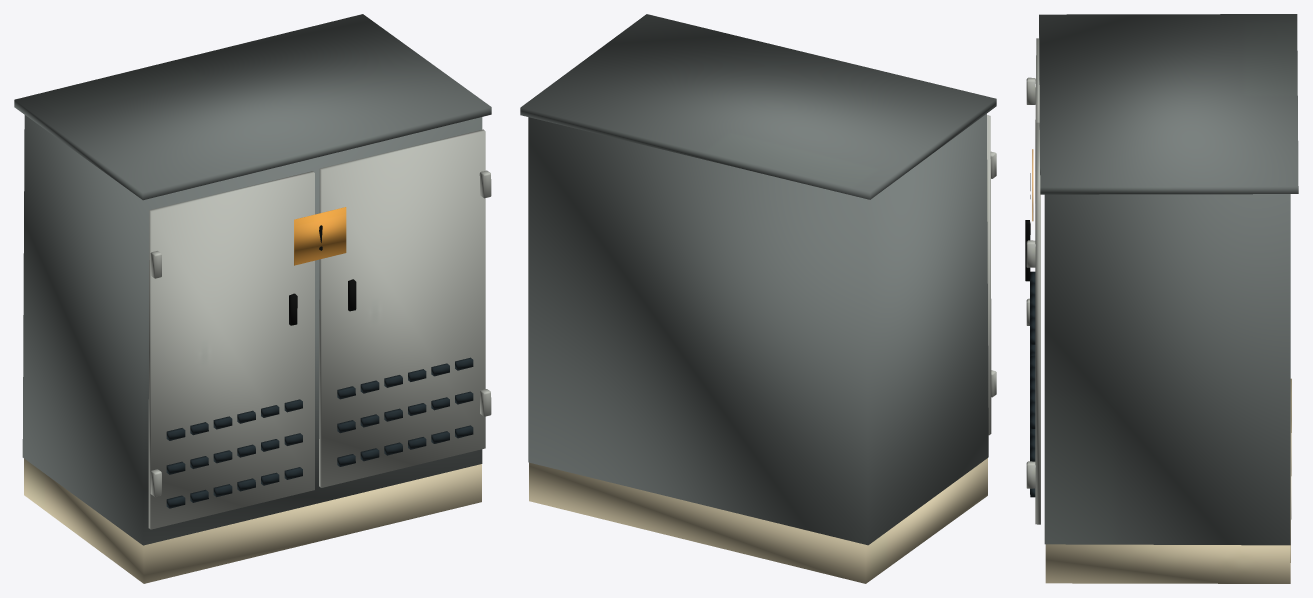
The model's file is utilitybox.glb.
The picture shows the model from 3 angles, left to right: view 1: azimuth 30°, elevation 25°; view 2: azimuth 150°, elevation 25°; view 3: azimuth 270°, elevation 25°; orthographic projection.
Parts seen in each view (by area): view 1: Powder coated carcass, Double access door.001, Double access door, Rain cap, Raised concrete footing, Warning decal; view 2: Powder coated carcass, Rain cap, Raised concrete footing, Double access door; view 3: Powder coated carcass, Rain cap, Raised concrete footing, Double access door.001, Double access door.
Part boxes in pixels (x1,y1,x2,y2): Powder coated carcass: [22, 115, 482, 545]; Double access door.001: [319, 129, 485, 487]; Double access door: [148, 171, 314, 529]; Rain cap: [14, 14, 491, 200]; Raised concrete footing: [24, 458, 481, 583]; Warning decal: [294, 207, 346, 265]; Powder coated carcass: [528, 113, 988, 545]; Rain cap: [520, 14, 996, 199]; Raised concrete footing: [529, 458, 987, 583]; Double access door: [987, 115, 991, 435]; Powder coated carcass: [1044, 194, 1290, 545]; Rain cap: [1039, 14, 1298, 194]; Raised concrete footing: [1045, 378, 1291, 583]; Double access door.001: [1035, 122, 1040, 524]; Double access door: [1035, 38, 1039, 203].
Bounding box in the file's own units: 1.19 × 1.28 × 0.7948.
Materials: 1 (1 with a texture image).
